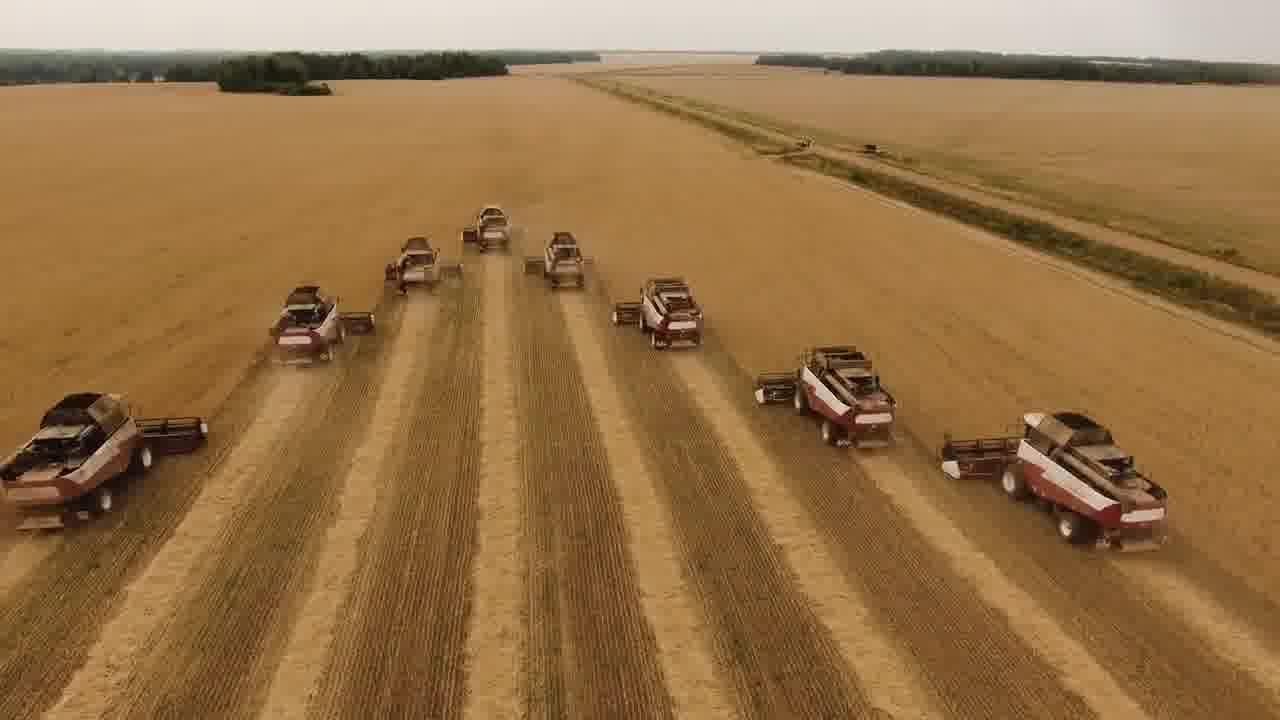combine harvester: (931, 400, 1176, 556), (0, 389, 220, 540), (750, 341, 903, 453), (261, 282, 381, 369), (608, 273, 711, 356), (384, 230, 467, 302), (520, 223, 602, 294), (461, 204, 527, 253)
